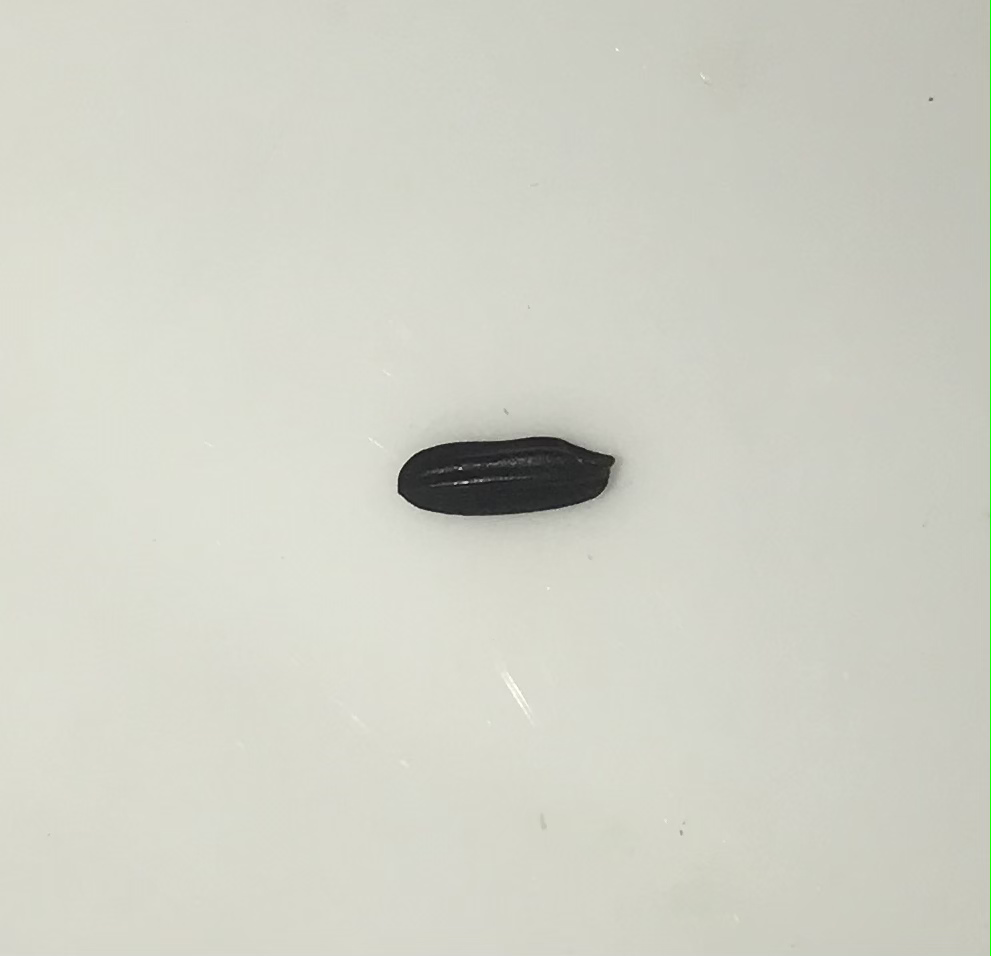Gao Nep Cam: (392, 426, 628, 542)
